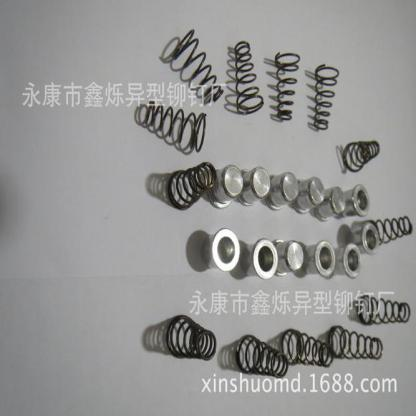FOD: (171, 25, 224, 109), (139, 98, 207, 158), (164, 310, 218, 364), (164, 160, 217, 214), (279, 324, 336, 369), (232, 37, 264, 117), (325, 322, 388, 362), (234, 334, 290, 378), (354, 289, 414, 328), (311, 61, 341, 135), (273, 48, 301, 125), (368, 213, 416, 249), (341, 136, 382, 176)
